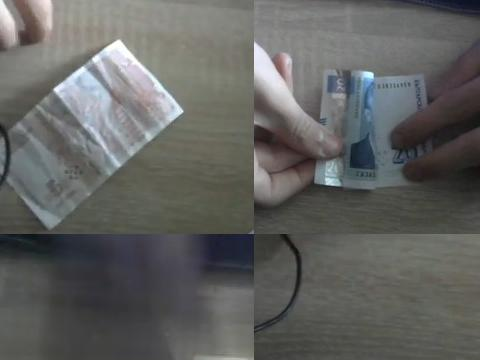20leva: (314, 70, 411, 191)
5leva: (0, 40, 184, 232)
